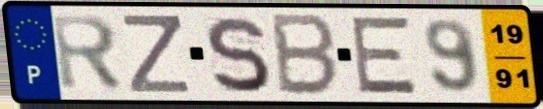9: (421, 16, 483, 96)
B: (270, 10, 341, 98)
E: (350, 14, 421, 96)
R: (49, 12, 127, 94)
S: (201, 14, 274, 95)
Z: (119, 12, 193, 95)
